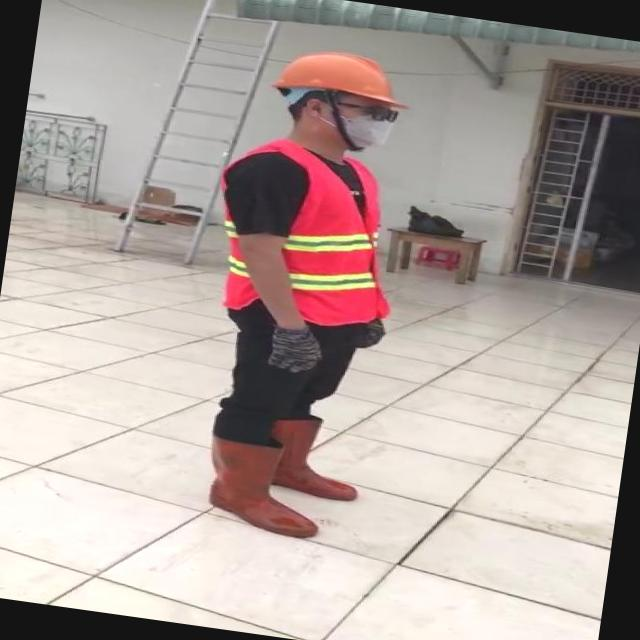boots: (238, 401, 373, 507), (196, 434, 330, 540)
helmet: (265, 40, 418, 114)
vest: (214, 140, 403, 334)
